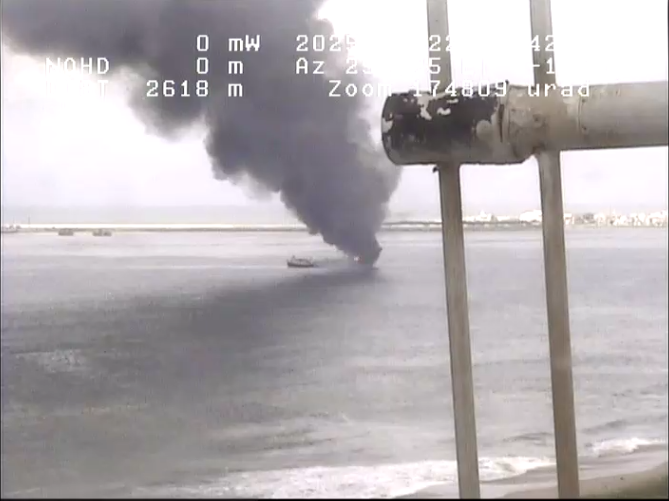FIRE_ONBOARD: (145, 15, 394, 291)
FISHING_VESSEL: (276, 244, 380, 277)
